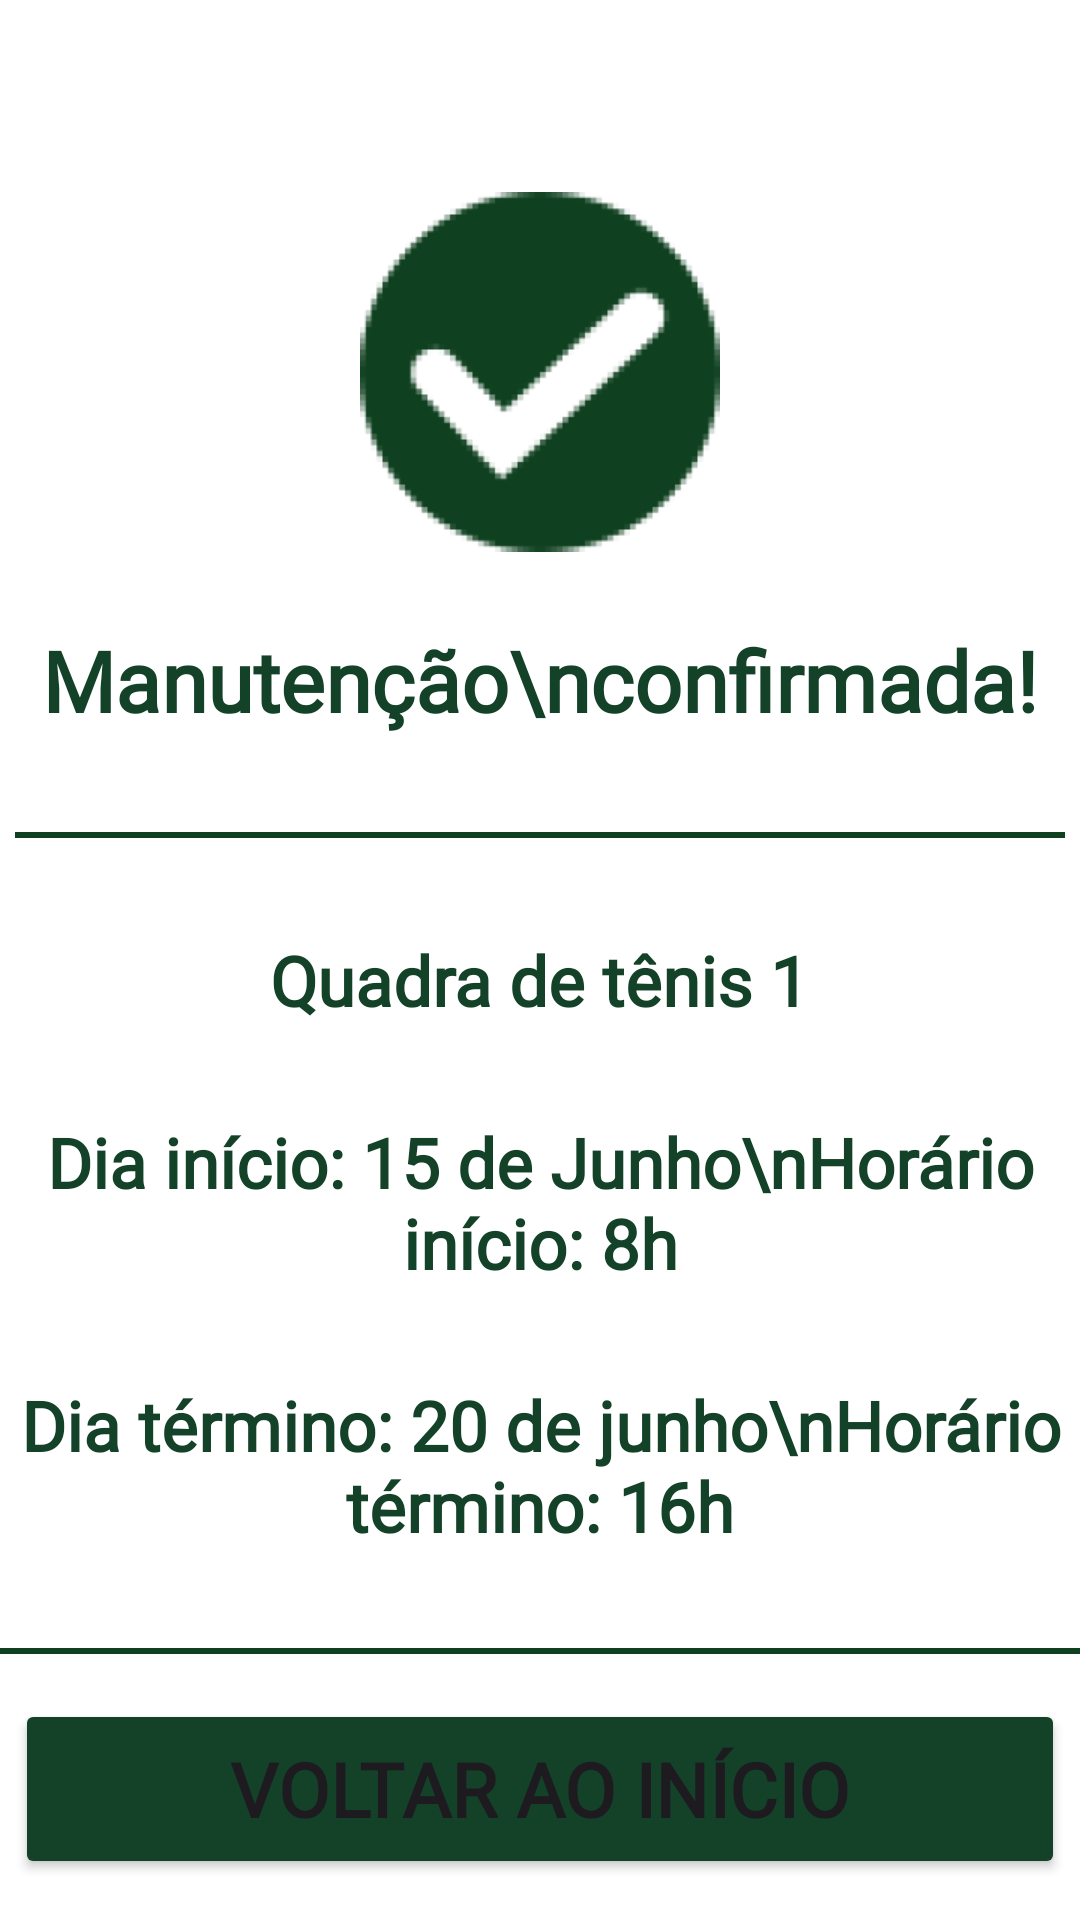

Point at icon controls on the screen. Image size 1080 x 1920, points as (x=x, y=y).
check: (x=540, y=372)
